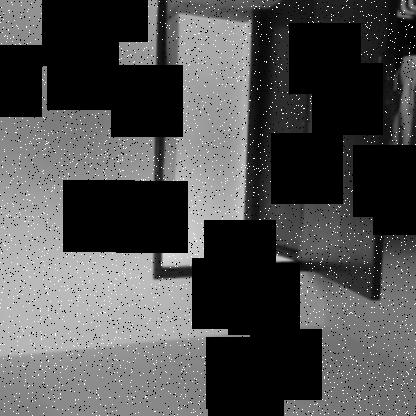Porte: (152, 0, 404, 304)
